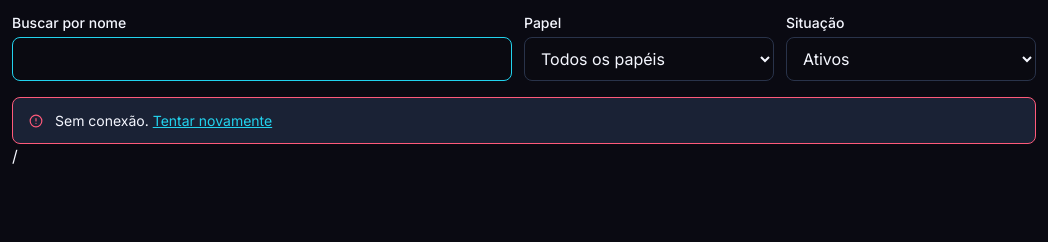
Test: MembersPanel (FAM-003) › erro de carregamento permite tentar novamente
The width and height of the screenshot is (1048, 242).
Expected: the message shows "Sem conexão.", top-left (55, 112), bottom-right (149, 129)
Click the button "Tentar novamente" at (212, 120), box top-left (153, 110), bottom-right (272, 131)
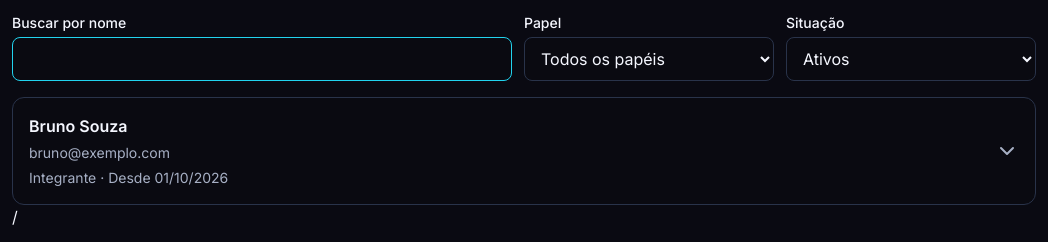
Result: the text "Bruno Souza" is shown at top-left (29, 116), bottom-right (128, 136)
